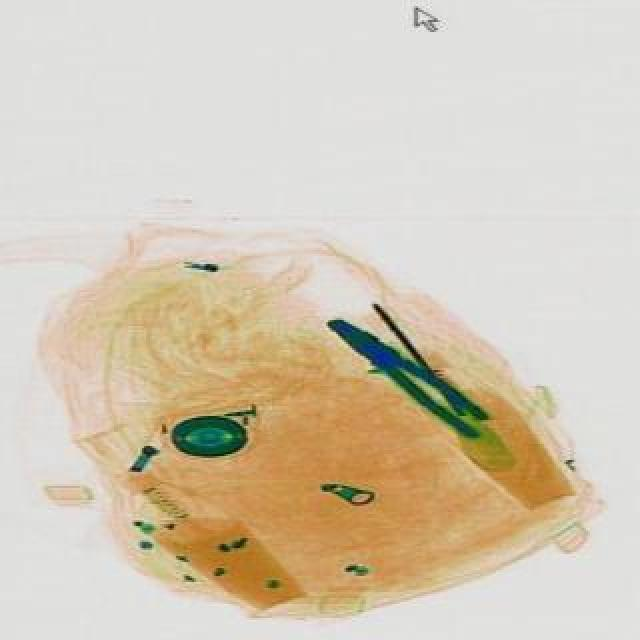wrench: (314, 302, 490, 442)
